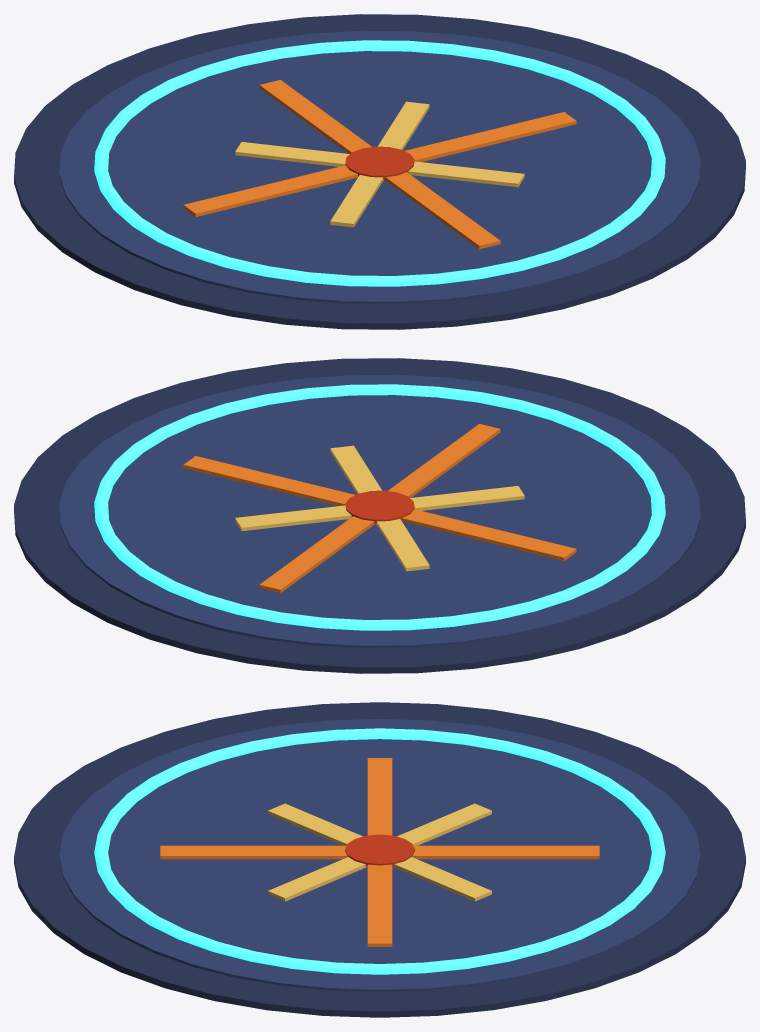
File: space_rug.glb
3 renders of one model, top to bottom at view 1: azimuth 30°, elevation 25°; view 2: azimuth 150°, elevation 25°; view 3: azimuth 270°, elevation 25°, orthographic.
Bounding box in the file's own units: 2.1 × 0.053 × 2.1.
